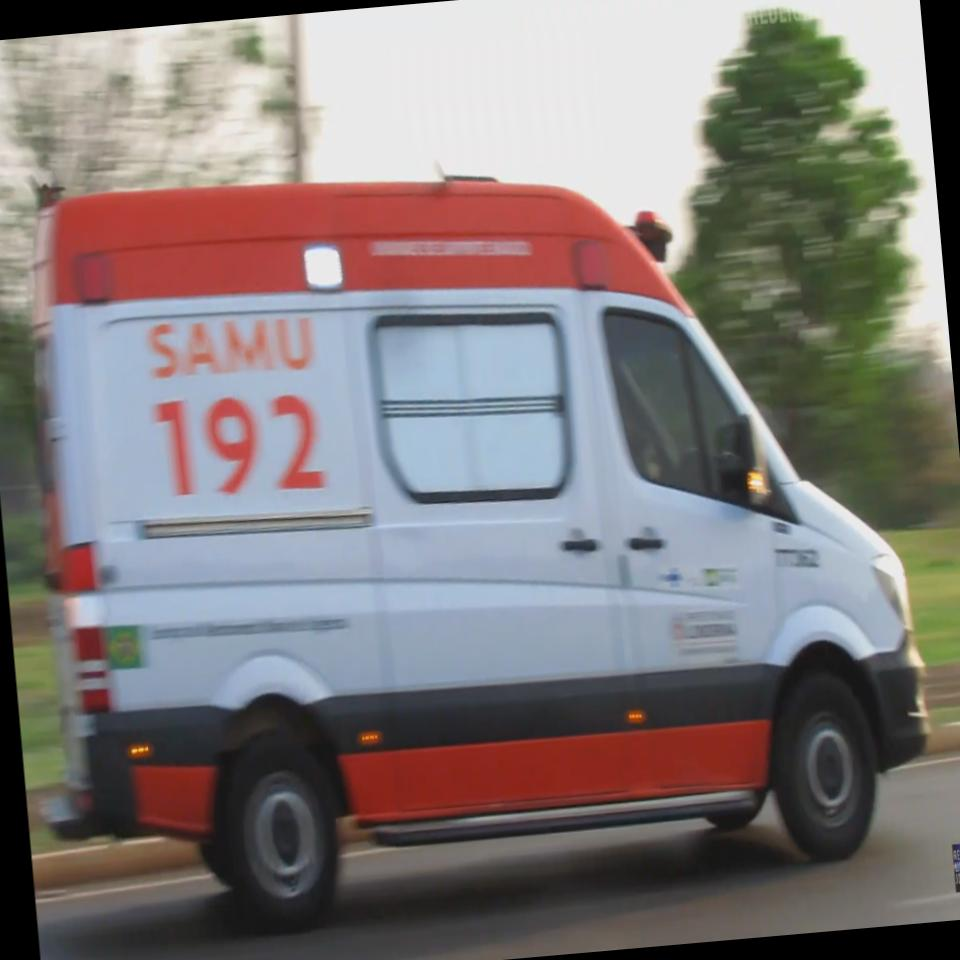bombeiro: (0, 103, 951, 956)
